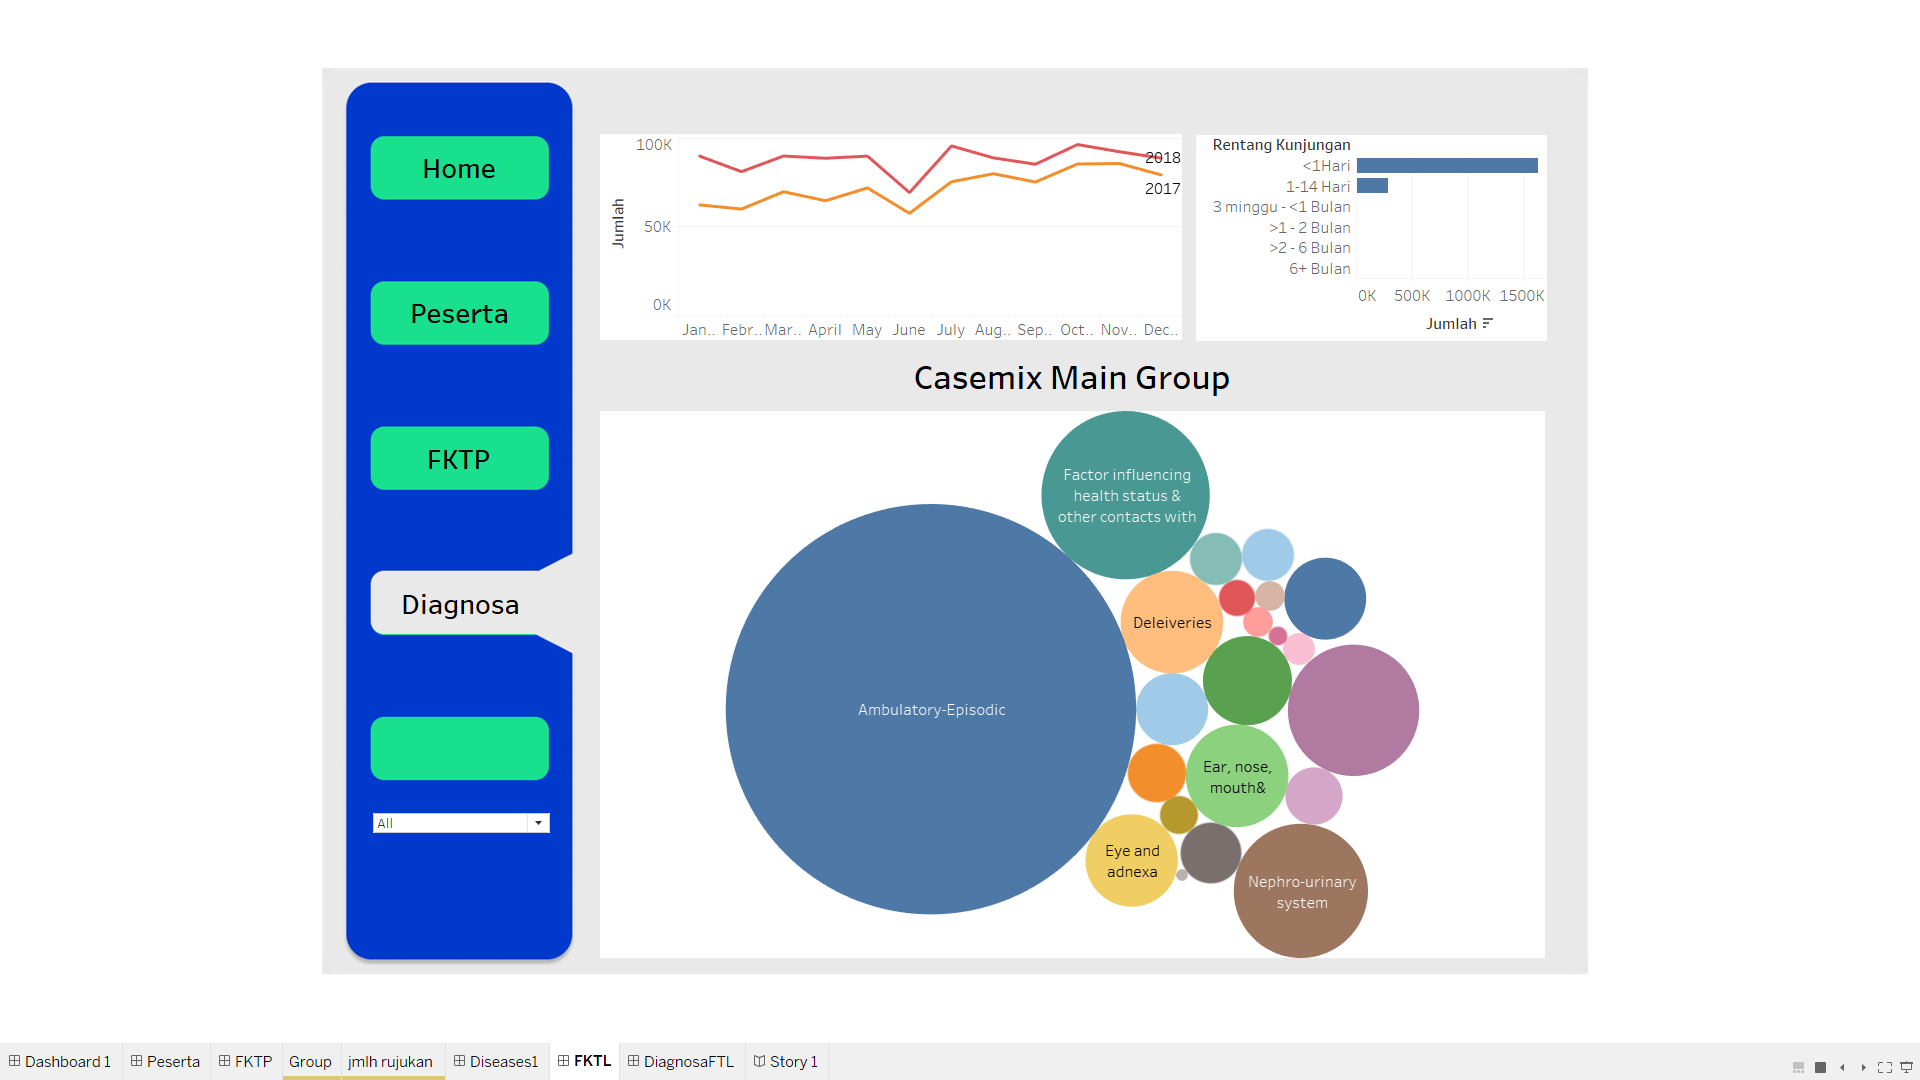

This screenshot's page, from the dashboard's own definition file:
{"tool":"tableau","page":{"name":"FKTL","canvas":[1300,930],"ordinal":3},"visuals":[{"type":"image","param":"C:/Users/fikri/Desktop/pyproj/drive-download-20201208T124209Z-001/New folder/7.p","box":[8,8,1284,914]},{"type":"dashboard-object","box":[60,75,178,72]},{"type":"worksheet","title":"FKTL_JUMLAH","mark":"Automatic","rows":["FKL02"],"cols":["FKL03"],"box":[290,78,582,206]},{"type":"text","box":[60,79,178,64]},{"type":"worksheet","title":"kunjungan","mark":"Automatic","cols":["FKL02"],"box":[886,79,351,206]},{"type":"text","box":[60,224,179,64]},{"type":"dashboard-object","box":[62,225,177,66]},{"type":"text","box":[290,285,944,69]},{"type":"worksheet","title":"Groupfktl","mark":"Circle","box":[290,355,945,547]},{"type":"text","box":[61,370,175,64]},{"type":"dashboard-object","box":[59,371,180,66]},{"type":"dashboard-object","box":[61,513,166,66]},{"type":"text","box":[62,516,177,63]},{"type":"text","box":[58,660,182,64]},{"type":"parameter","param":"[Parameters].[Parameter 1]","box":[60,754,183,66]}]}

Visuals, with their boxes on the page's 1300x930 design canvas (x1, y1, x2, y2). These are canvas units, not pixel positions in the 1920x1080 screenshot, which may show the page scaled, cropped or inside an application window:
image: region(8, 8, 1292, 922)
dashboard-object: region(60, 75, 238, 147)
"FKTL_JUMLAH" worksheet: region(290, 78, 872, 284)
text: region(60, 79, 238, 143)
"kunjungan" worksheet: region(886, 79, 1237, 285)
text: region(60, 224, 239, 288)
dashboard-object: region(62, 225, 239, 291)
text: region(290, 285, 1234, 354)
"Groupfktl" worksheet (Circle marks): region(290, 355, 1235, 902)
text: region(61, 370, 236, 434)
dashboard-object: region(59, 371, 239, 437)
dashboard-object: region(61, 513, 227, 579)
text: region(62, 516, 239, 579)
text: region(58, 660, 240, 724)
parameter: region(60, 754, 243, 820)
